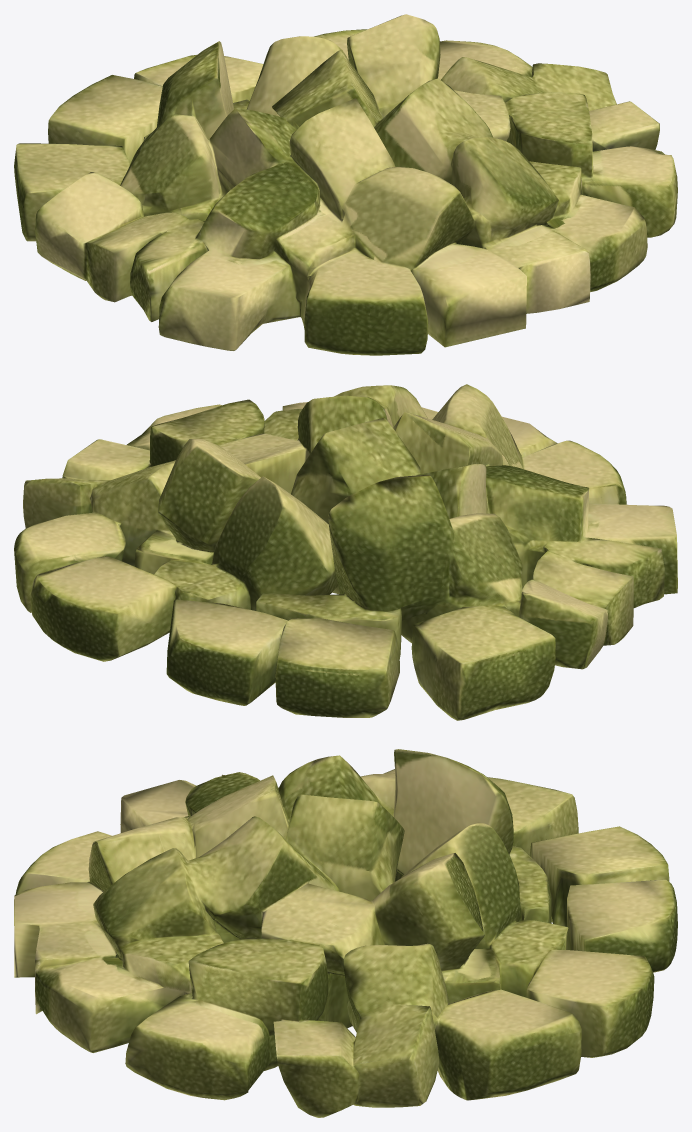
Rendered from Calabaza_Cruda.fbx.
3 renders of one model, top to bottom at view 1: azimuth 30°, elevation 25°; view 2: azimuth 150°, elevation 25°; view 3: azimuth 270°, elevation 25°, orthographic. The views are drawn at different scales.
Visible parts, largest first — view 1: Mesh_0; view 2: Mesh_0; view 3: Mesh_0.
Boxes of the visible parts, x1,y1,x2,y2 form: Mesh_0: (14, 14, 677, 355); Mesh_0: (14, 384, 677, 720); Mesh_0: (14, 749, 677, 1117).
Bounding box in the file's own units: 190 × 53.26 × 180.
1 material, 1 textured.
